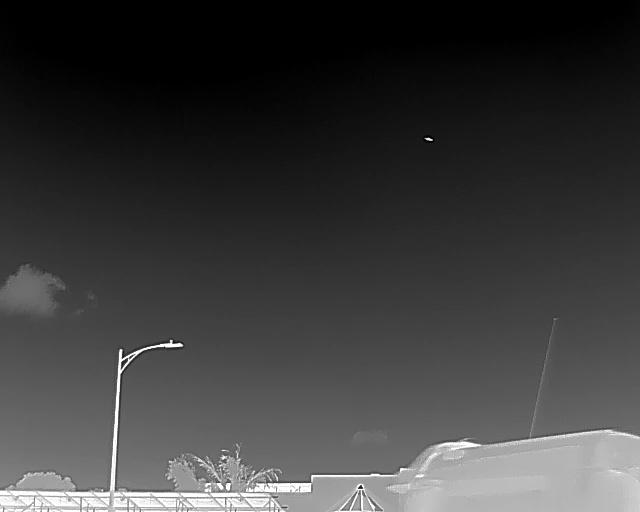fpv-drone: (423, 136, 434, 143)
